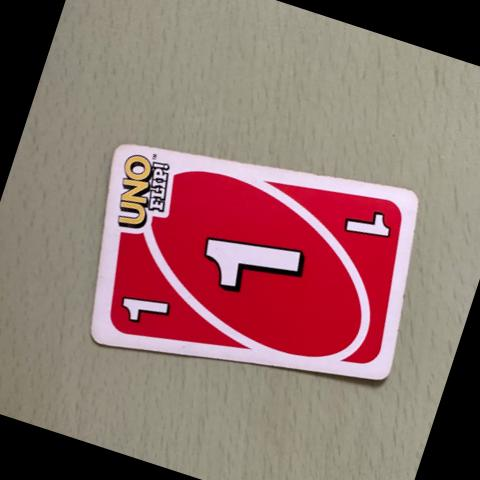lred-1: (103, 267, 186, 343)
